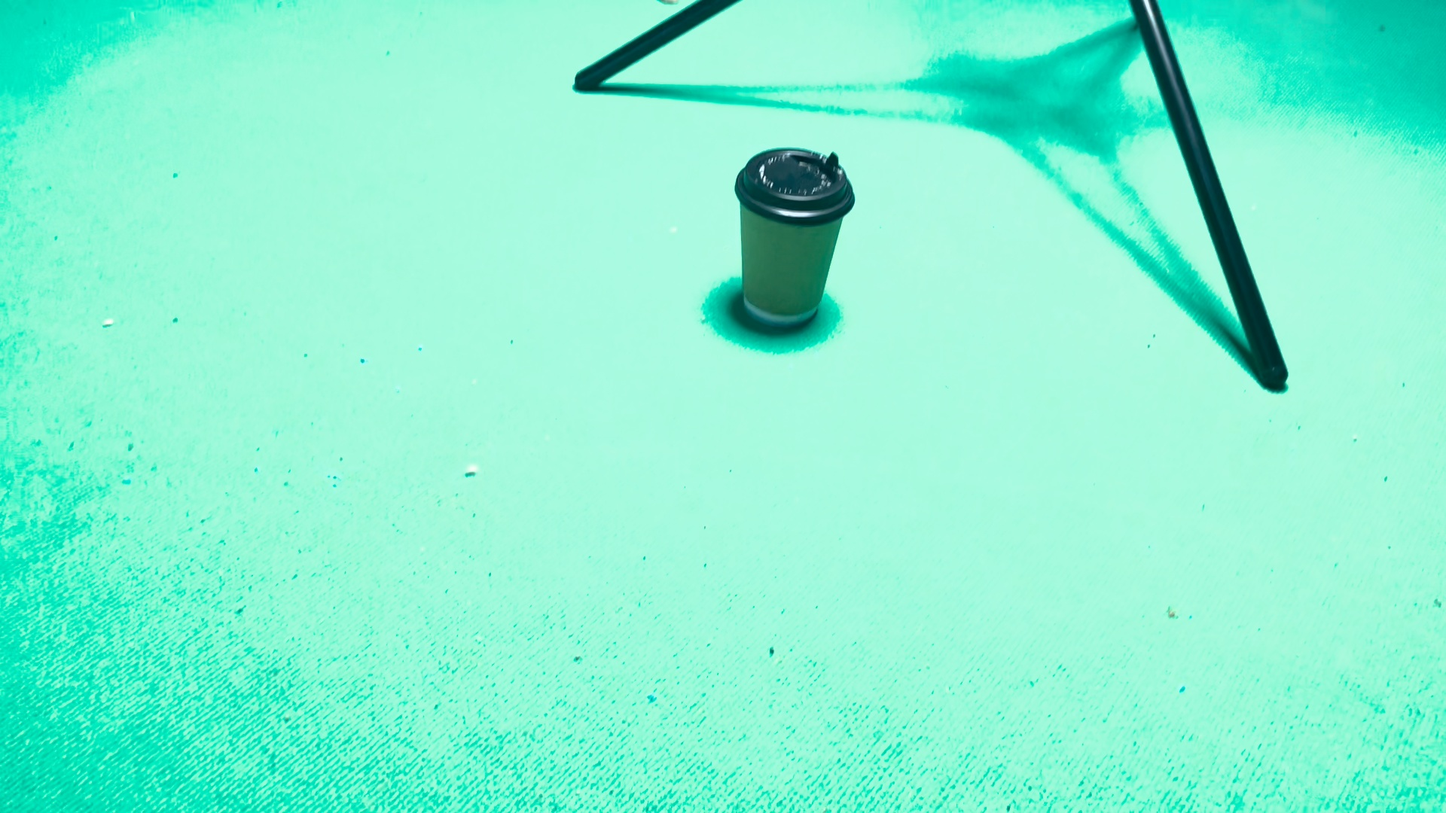cup: (737, 442, 832, 567)
